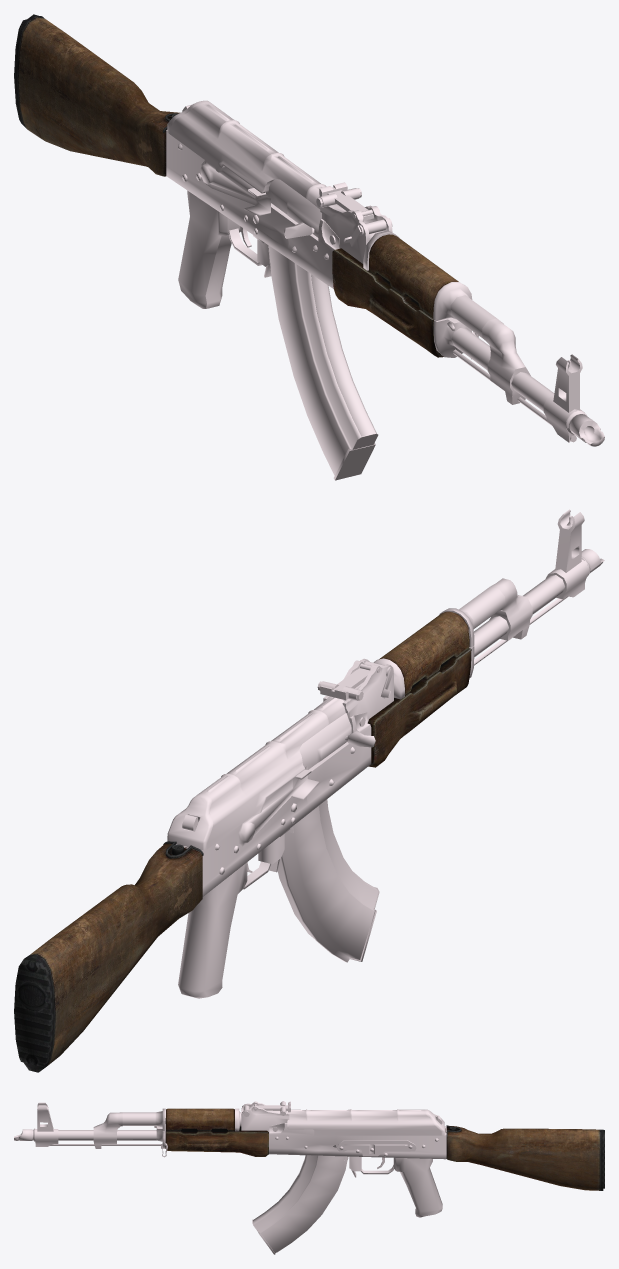
File: akm.fbx
3 views of the same model, one above another, from view 1: azimuth 30°, elevation 25°; view 2: azimuth 150°, elevation 25°; view 3: azimuth 270°, elevation 25° (orthographic). The views are drawn at different scales.
Visible parts, largest first — view 1: akm_1, akm_2; view 2: akm_1, akm_2; view 3: akm_1, akm_2.
Part boxes in pixels (x1,y1,x2,y2): akm_1: (166, 100, 604, 480); akm_2: (14, 14, 458, 357); akm_1: (167, 509, 604, 998); akm_2: (14, 611, 471, 1072); akm_1: (14, 1101, 446, 1254); akm_2: (165, 1108, 604, 1190).
Size of the model in its own units: 646 by 2507 by 9047.
